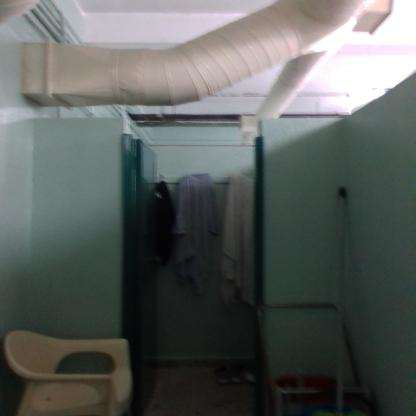open: (112, 114, 272, 412)
